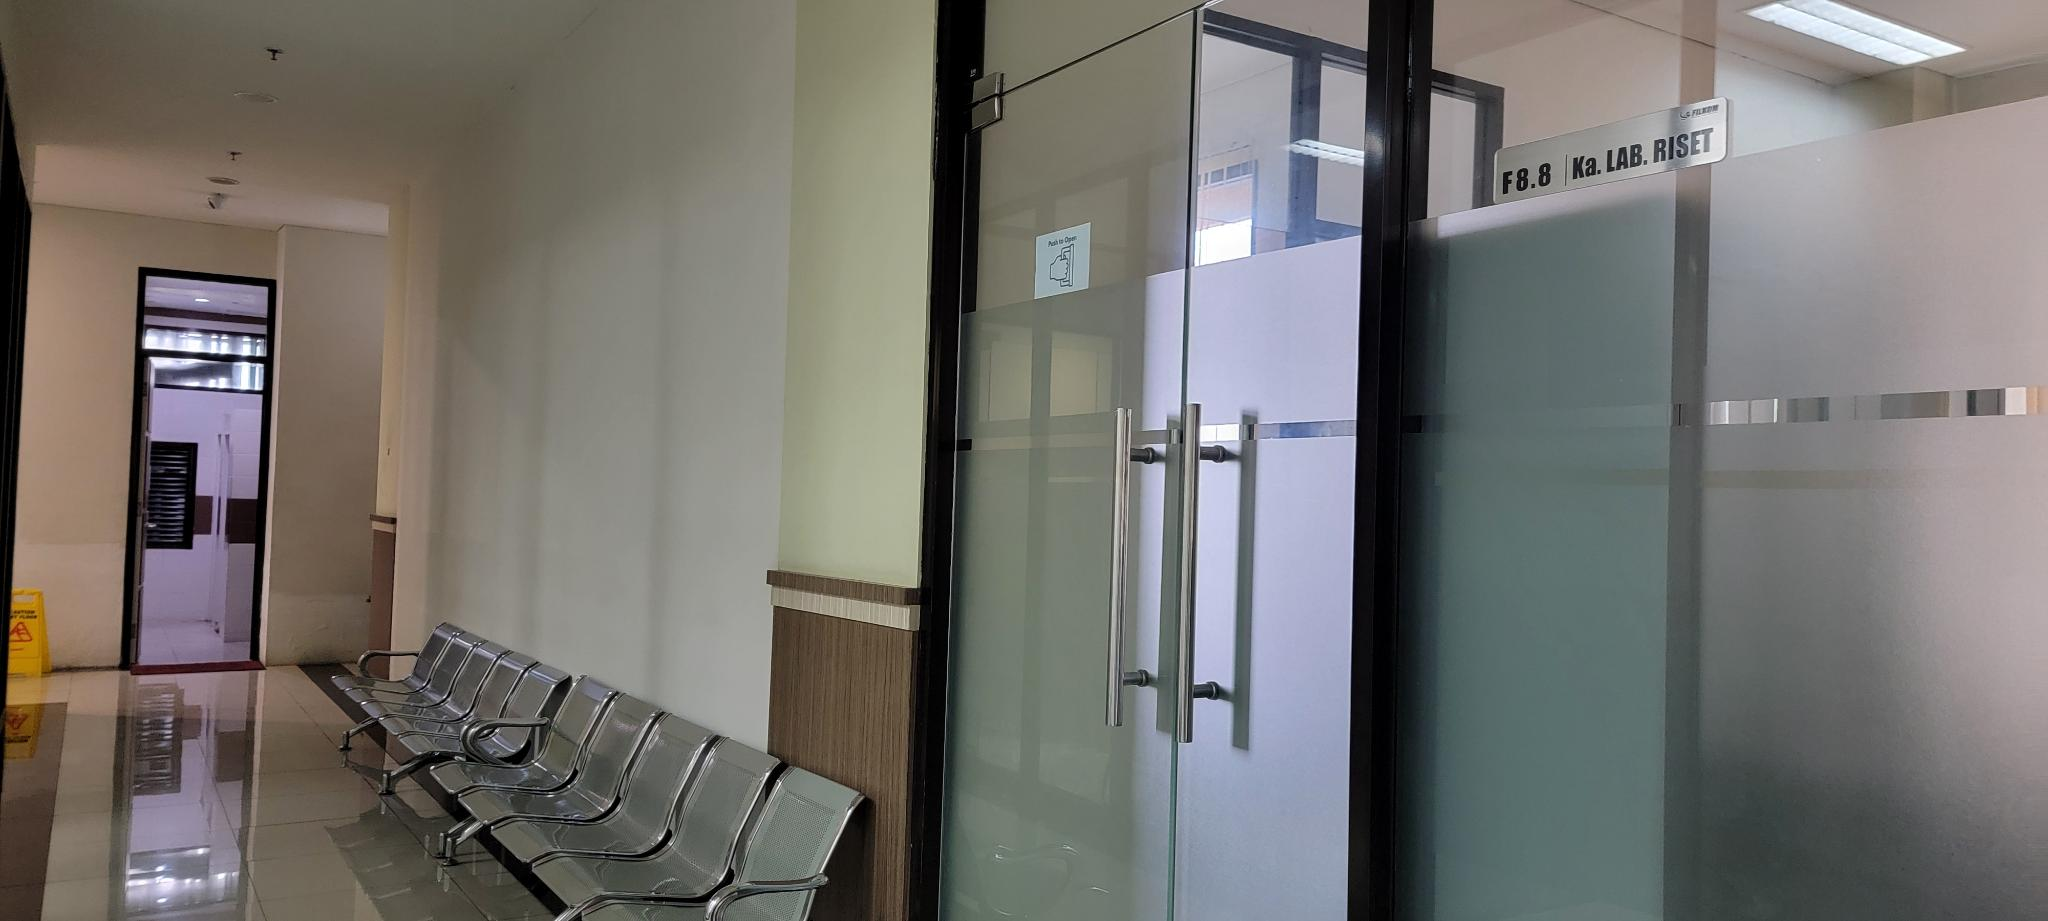plate: (1489, 98, 1731, 206)
